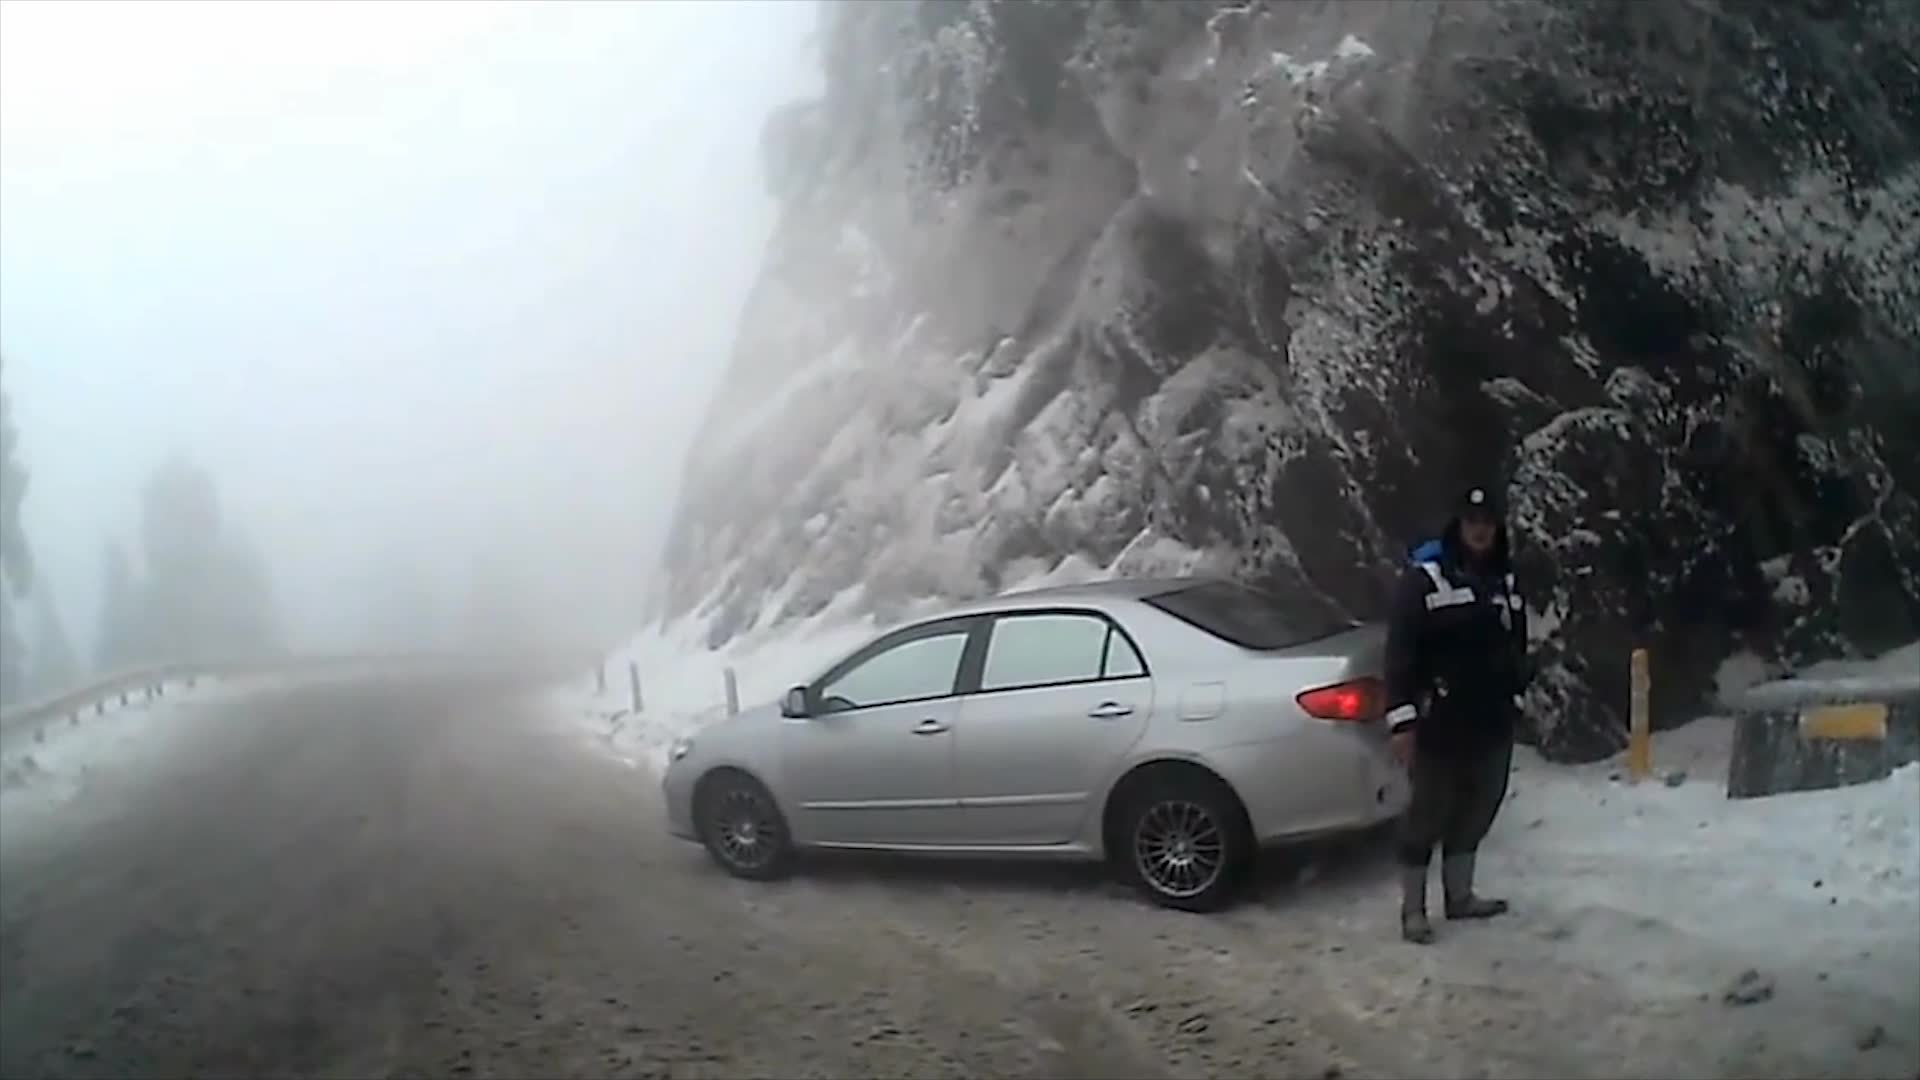pedestrian: (1378, 482, 1532, 945)
vehicle: (659, 579, 1482, 915)
